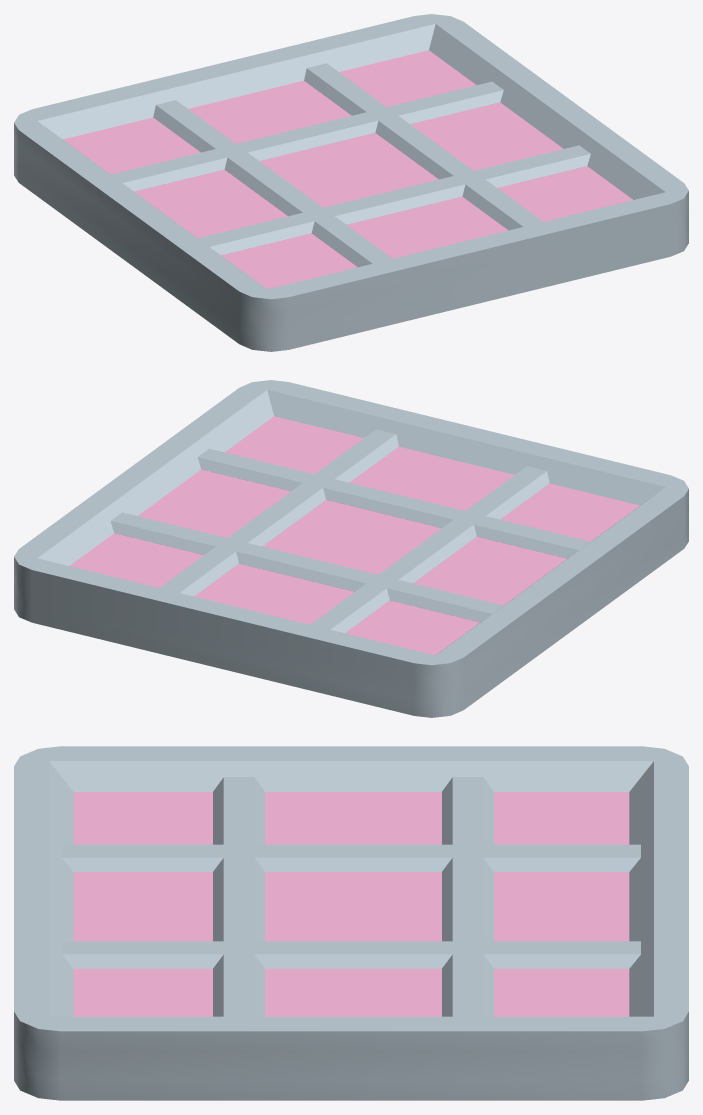
Rendered from Moving_Platform.fbx.
3 renders of one model, top to bottom at view 1: azimuth 30°, elevation 25°; view 2: azimuth 150°, elevation 25°; view 3: azimuth 270°, elevation 25°, orthographic. The views are drawn at different scales.
Visible parts, largest first — view 1: Moving_Platform; view 2: Moving_Platform; view 3: Moving_Platform.
Boxes of the visible parts, left/top/right/bottom form: Moving_Platform: left=14, top=14, right=688, bottom=351; Moving_Platform: left=14, top=380, right=688, bottom=717; Moving_Platform: left=14, top=746, right=688, bottom=1100.
Size of the model in its own units: 200 by 22.65 by 200.
